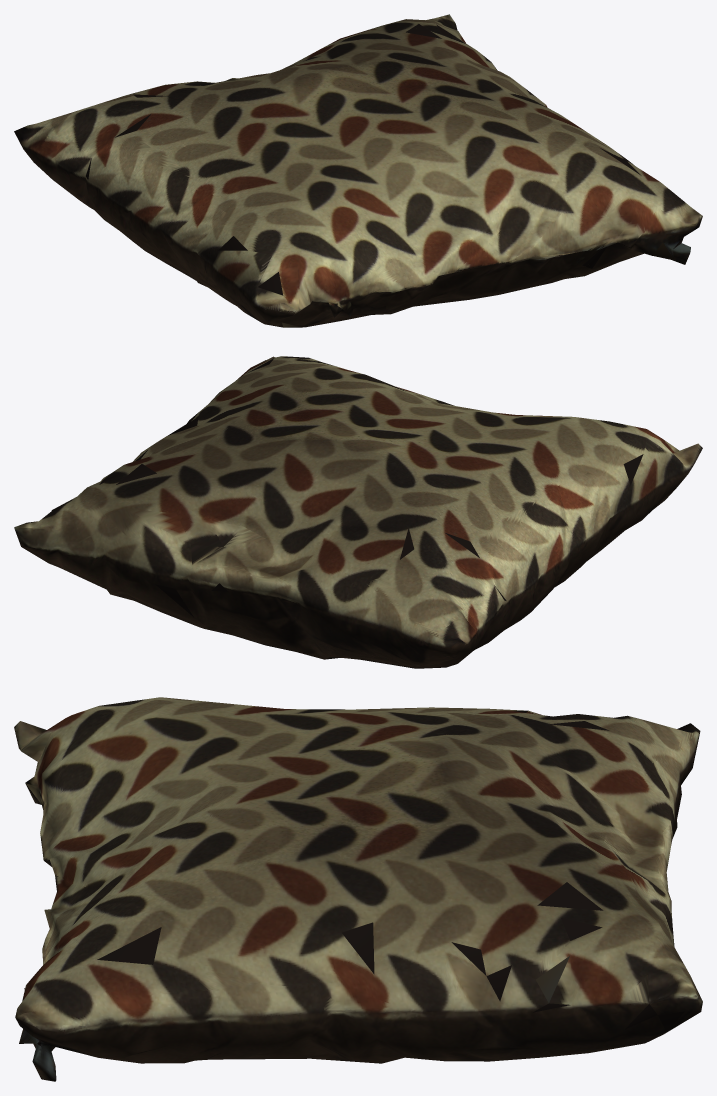
The model's file is pillow.dae.
3 renders of one model, top to bottom at view 1: azimuth 30°, elevation 25°; view 2: azimuth 150°, elevation 25°; view 3: azimuth 270°, elevation 25°, orthographic. The views are drawn at different scales.
Parts seen in each view (by area): view 1: Pillow; view 2: Pillow; view 3: Pillow.
Part boxes in pixels (left/top/right/bottom): Pillow: left=14, top=14, right=702, bottom=327; Pillow: left=14, top=356, right=702, bottom=668; Pillow: left=14, top=697, right=702, bottom=1081.
Size of the model in its own units: 0.3537 by 0.3565 by 0.1307.
1 material, 1 textured.
